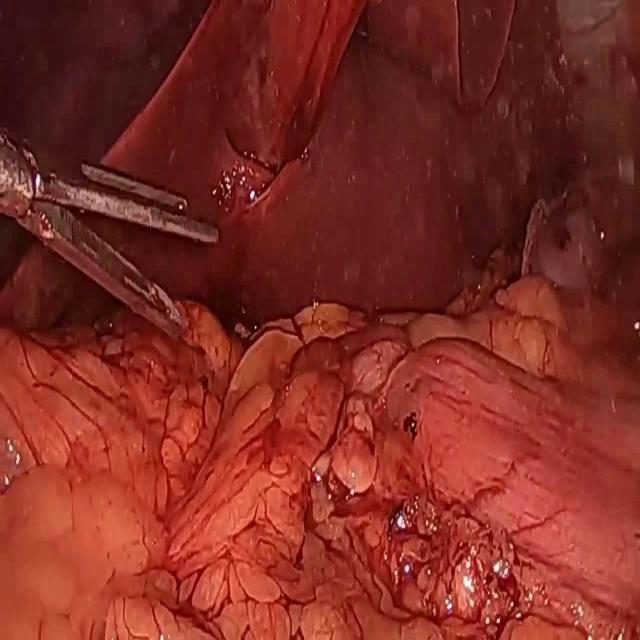surgical-tool: (0, 123, 216, 333)
